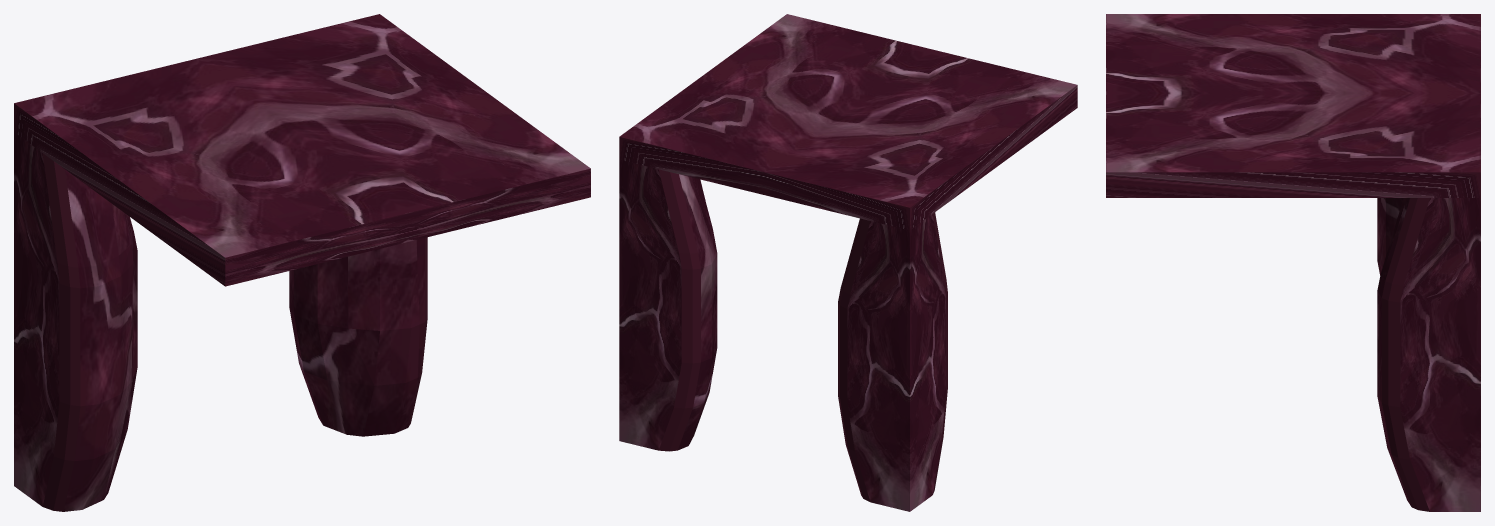
Rendered from EspacioPornoScrollIngresoBajoNI.gltf.
The picture shows the model from 3 angles, left to right: view 1: azimuth 30°, elevation 25°; view 2: azimuth 150°, elevation 25°; view 3: azimuth 270°, elevation 25°; orthographic projection. The views are drawn at different scales.
Parts seen in each view (by area): view 1: Cubo.30; view 2: Cubo.30; view 3: Cubo.30.
Boxes of the visible parts, box(x1,y1,x2,y2) form: Cubo.30: box(14, 14, 590, 511); Cubo.30: box(619, 14, 1077, 511); Cubo.30: box(1106, 14, 1480, 511).
Bounding box in the file's own units: 2 × 2 × 2.
1 material, 1 textured.
